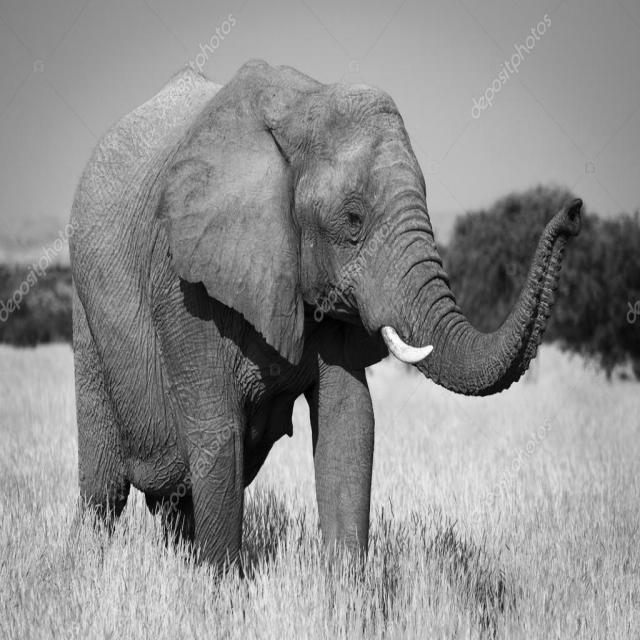Animal: (76, 56, 586, 568)
